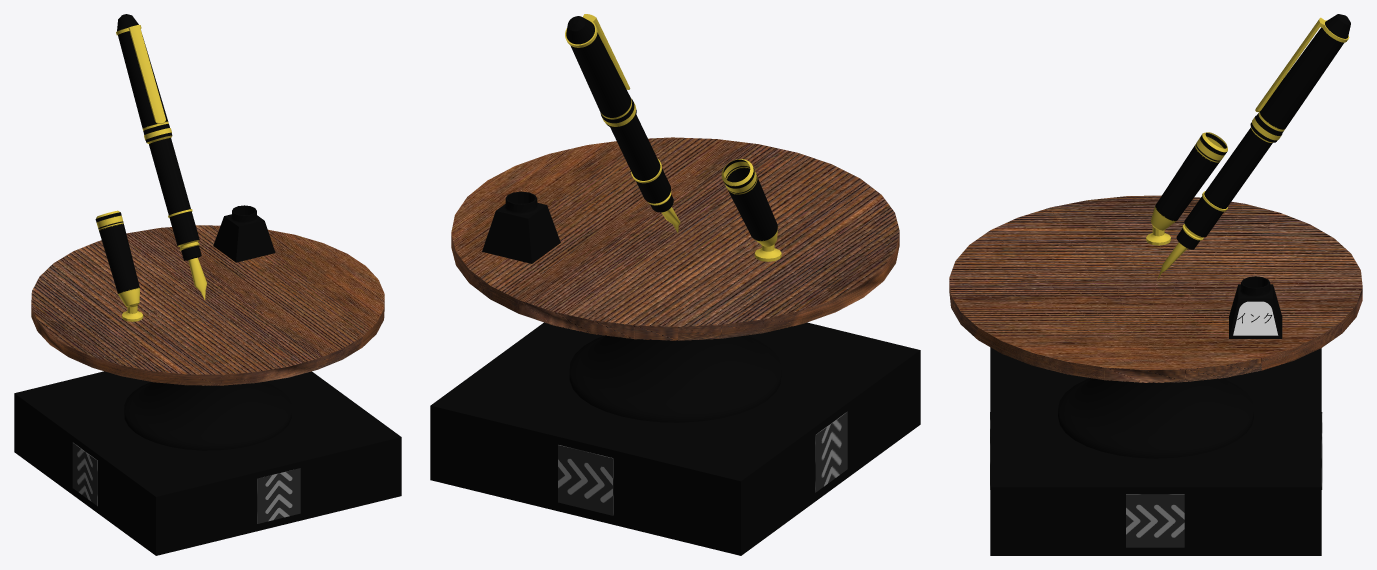
File: stylo 1.fbx
3 views of the same model, side by side, from view 1: azimuth 30°, elevation 25°; view 2: azimuth 150°, elevation 25°; view 3: azimuth 270°, elevation 25° (orthographic). The views are drawn at different scales.
Parts seen in each view (by area): view 1: Base, WoodTable, Stylo, Logos, Bouchon, Ink Pot; view 2: Base, WoodTable, Stylo, Logos, Ink Pot, Bouchon; view 3: Base, WoodTable, Stylo, Logos, Bouchon, Ink Pot.
Boxes of the visible parts, box(x1,y1,x2,y2) form: Base: box(14, 371, 401, 555); WoodTable: box(31, 225, 384, 385); Stylo: box(116, 14, 207, 299); Logos: box(72, 442, 300, 523); Bouchon: box(95, 210, 143, 321); Ink Pot: box(213, 205, 275, 262); Base: box(430, 322, 920, 555); WoodTable: box(451, 137, 899, 340); Stylo: box(565, 14, 680, 232); Logos: box(558, 412, 847, 515); Ink Pot: box(482, 191, 560, 263); Bouchon: box(721, 159, 781, 261); Base: box(990, 347, 1321, 555); WoodTable: box(949, 195, 1362, 382); Stylo: box(1157, 14, 1350, 280); Logos: box(990, 412, 1322, 547); Bouchon: box(1146, 132, 1227, 245); Ink Pot: box(1229, 276, 1282, 338).
Bounding box in the file's own units: 198 × 248 × 198.
